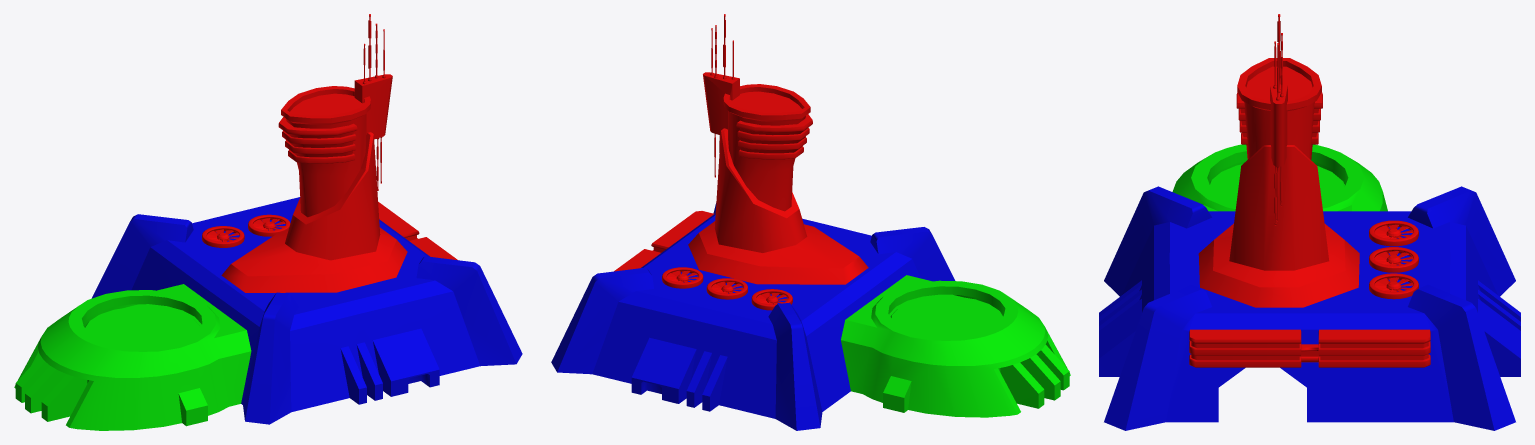
Rendered from Headquarters.fbx.
The picture shows the model from 3 angles, left to right: view 1: azimuth 30°, elevation 25°; view 2: azimuth 150°, elevation 25°; view 3: azimuth 270°, elevation 25°; orthographic projection. The views are drawn at different scales.
Visible parts, largest first — view 1: Headquarters, Heliport_Door, Cylinder (×2); view 2: Headquarters, Heliport_Door, Cylinder (×2); view 3: Headquarters, Cylinder (×3), Heliport_Door, Rotor (×2).
Part boxes in pixels (left/top/right/bottom): Headquarters: left=14, top=14, right=522, bottom=430; Heliport_Door: left=85, top=304, right=201, bottom=346; Cylinder (×2): left=202, top=214, right=290, bottom=247; Headquarters: left=551, top=14, right=1070, bottom=430; Heliport_Door: left=889, top=294, right=1002, bottom=335; Cylinder (×2): left=662, top=267, right=747, bottom=299; Headquarters: left=1099, top=14, right=1520, bottom=430; Cylinder (×3): left=1369, top=220, right=1418, bottom=299; Heliport_Door: left=1209, top=164, right=1344, bottom=201; Rotor (×2): left=1374, top=251, right=1412, bottom=291.
Size of the model in its own units: 192 by 133 by 139.
